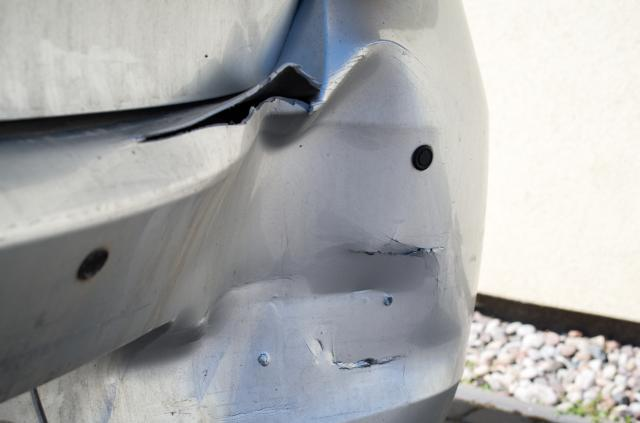Bumper: (117, 10, 493, 423)
